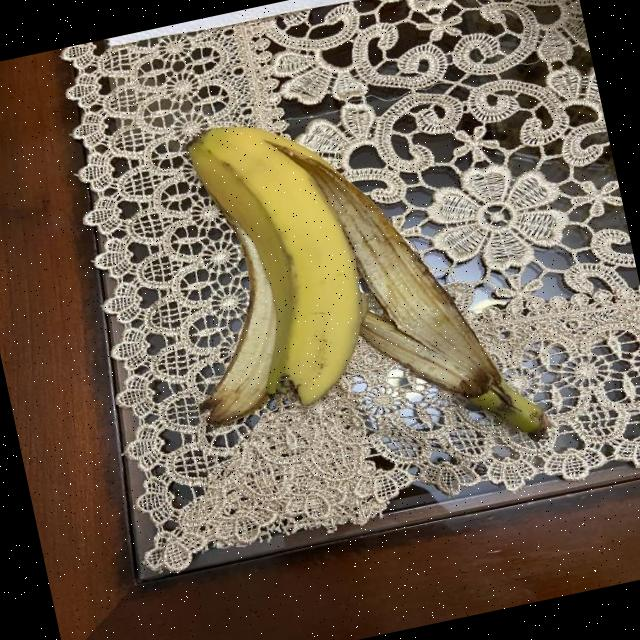banana-peel: (144, 70, 550, 500), (143, 102, 384, 430)
